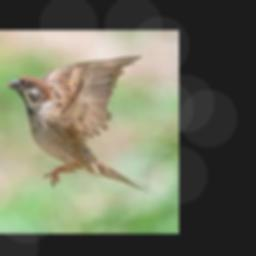Sparrow: (4, 56, 151, 192)
